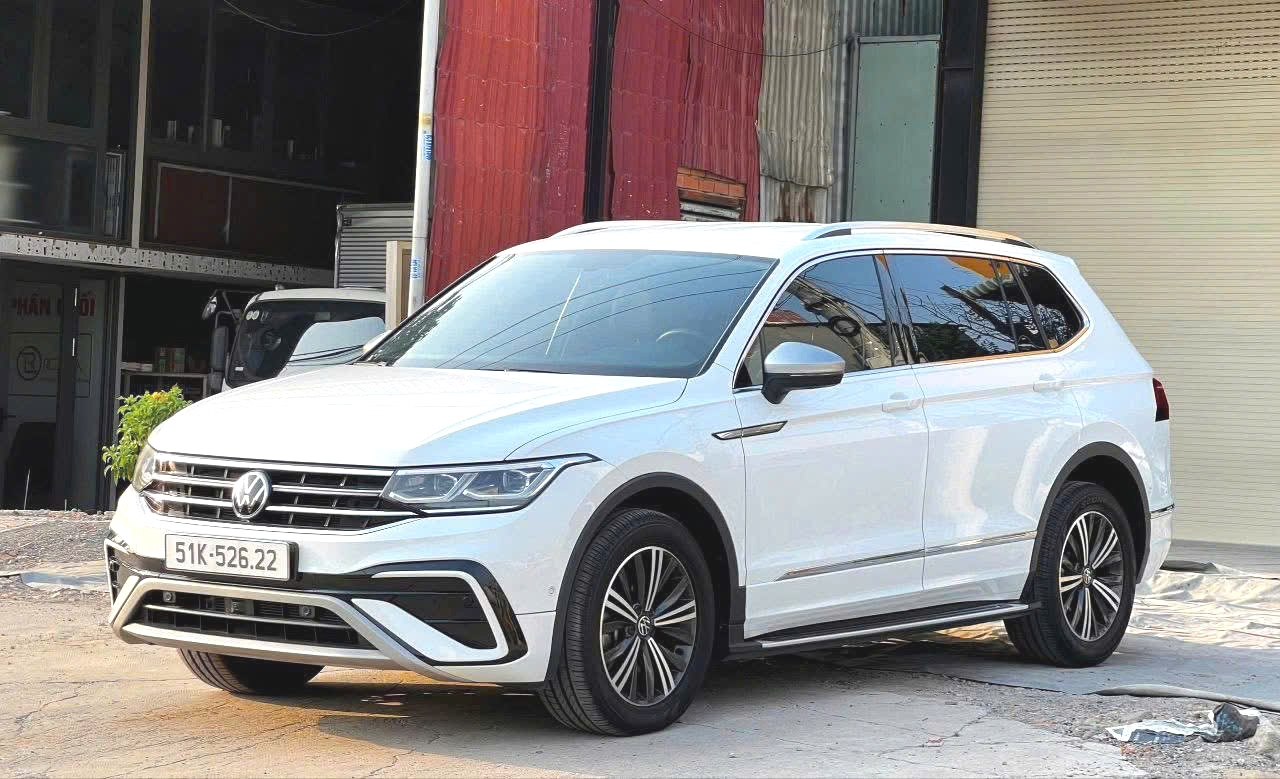Bien-so: (122, 531, 261, 583)
